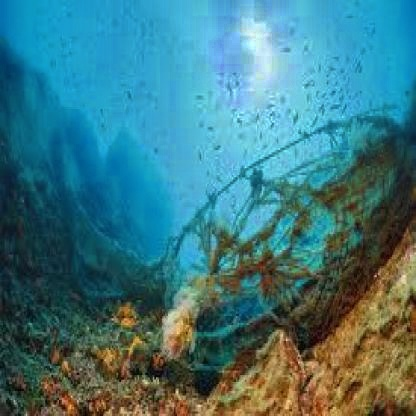net: (152, 99, 416, 373)
